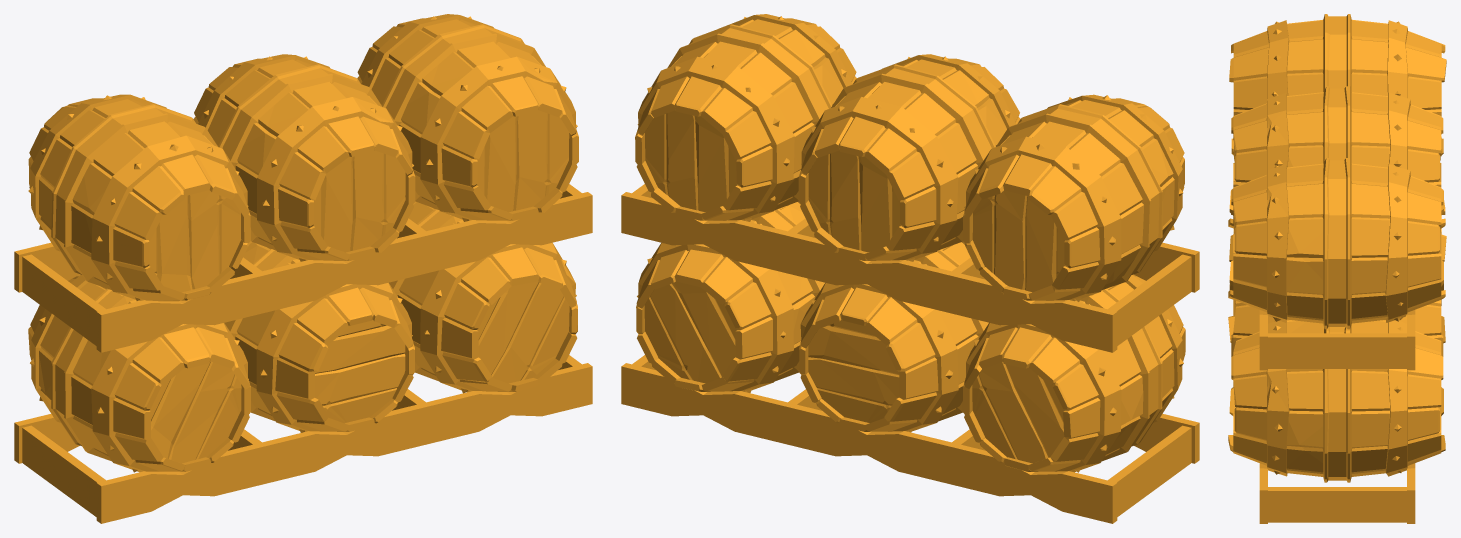
Rendered from SM_Barrel_Stand_3m_Double_Fantasy.fbx.
3 renders of one model, left to right at view 1: azimuth 30°, elevation 25°; view 2: azimuth 150°, elevation 25°; view 3: azimuth 270°, elevation 25°, orthographic. The views are drawn at different scales.
Visible parts, largest first — view 1: barrel-stand-3m-double-fantasy; view 2: barrel-stand-3m-double-fantasy; view 3: barrel-stand-3m-double-fantasy.
Boxes of the visible parts, box(x1,y1,x2,y2) form: barrel-stand-3m-double-fantasy: box(14, 14, 592, 523); barrel-stand-3m-double-fantasy: box(621, 14, 1199, 523); barrel-stand-3m-double-fantasy: box(1228, 14, 1446, 523).
Size of the model in its own units: 3 by 2.09 by 1.29.
